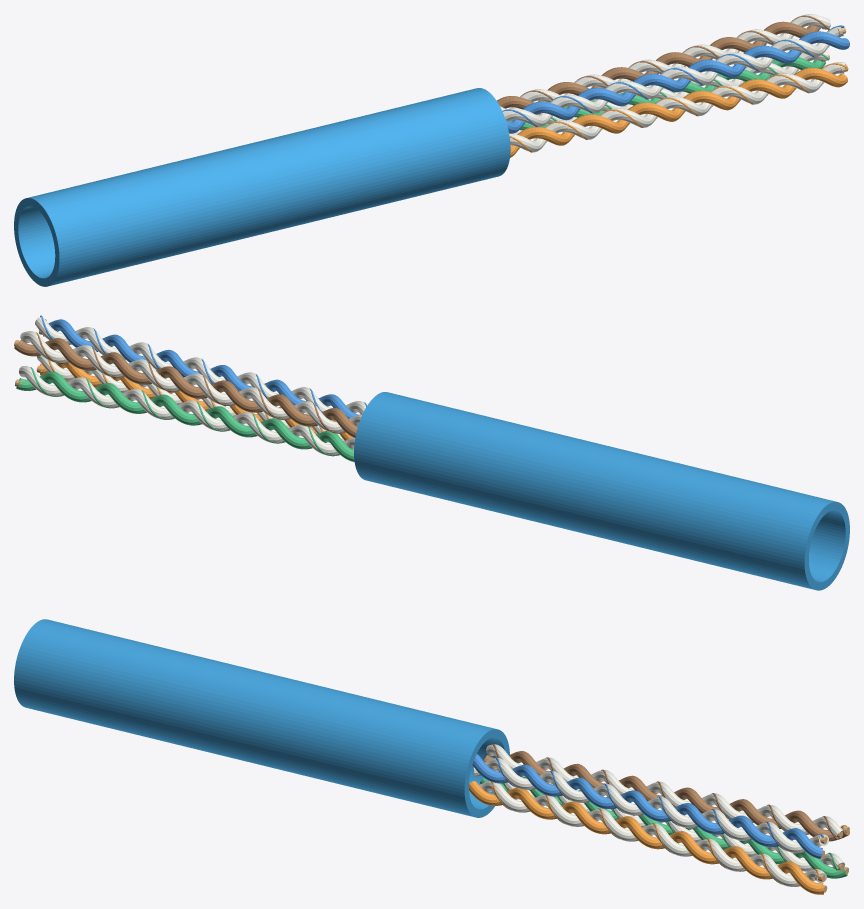
File: cat6.glb
3 views of the same model, one above another, from view 1: azimuth 30°, elevation 25°; view 2: azimuth 150°, elevation 25°; view 3: azimuth 330°, elevation 25° (orthographic).
Parts seen in each view (by area): view 1: 01_Jaket_Luar_PVC_Berongga, 05_Pasangan_1_biru_Berwarna, 05_Pasangan_2_oren_Berwarna, 05_Pasangan_1_biru_Putih_Berjalur, 05_Pasangan_2_oren_Putih_Berjalur, 05_Pasangan_4_coklat_Berwarna, 05_Pasangan_4_coklat_Putih_Berjalur, 05_Pasangan_3_hijau_Berwarna, 05_Pasangan_3_hijau_Putih_Berjalur, 06_Jalur_Warna_oren, 06_Jalur_Warna_biru; view 2: 01_Jaket_Luar_PVC_Berongga, 05_Pasangan_4_coklat_Berwarna, 05_Pasangan_3_hijau_Berwarna, 05_Pasangan_4_coklat_Putih_Berjalur, 05_Pasangan_3_hijau_Putih_Berjalur, 05_Pasangan_1_biru_Berwarna, 05_Pasangan_1_biru_Putih_Berjalur, 05_Pasangan_2_oren_Putih_Berjalur, 05_Pasangan_2_oren_Berwarna, 06_Jalur_Warna_coklat, 06_Jalur_Warna_hijau; view 3: 01_Jaket_Luar_PVC_Berongga, 05_Pasangan_2_oren_Berwarna, 05_Pasangan_1_biru_Berwarna, 05_Pasangan_1_biru_Putih_Berjalur, 05_Pasangan_2_oren_Putih_Berjalur, 05_Pasangan_4_coklat_Berwarna, 05_Pasangan_4_coklat_Putih_Berjalur, 05_Pasangan_3_hijau_Berwarna, 05_Pasangan_3_hijau_Putih_Berjalur.
Part boxes in pixels (box(x1,y1,x2,y2)): 01_Jaket_Luar_PVC_Berongga: box(14, 88, 510, 286); 05_Pasangan_1_biru_Berwarna: box(506, 31, 849, 133); 05_Pasangan_2_oren_Berwarna: box(510, 67, 847, 157); 05_Pasangan_1_biru_Putih_Berjalur: box(503, 25, 843, 126); 05_Pasangan_2_oren_Putih_Berjalur: box(509, 62, 845, 152); 05_Pasangan_4_coklat_Berwarna: box(497, 21, 820, 114); 05_Pasangan_4_coklat_Putih_Berjalur: box(500, 14, 830, 121); 05_Pasangan_3_hijau_Berwarna: box(509, 57, 825, 130); 05_Pasangan_3_hijau_Putih_Berjalur: box(509, 51, 828, 134); 06_Jalur_Warna_oren: box(509, 63, 847, 152); 06_Jalur_Warna_biru: box(502, 25, 844, 127); 01_Jaket_Luar_PVC_Berongga: box(354, 392, 849, 590); 05_Pasangan_4_coklat_Berwarna: box(14, 338, 357, 437); 05_Pasangan_3_hijau_Berwarna: box(16, 371, 354, 461); 05_Pasangan_4_coklat_Putih_Berjalur: box(20, 331, 361, 432); 05_Pasangan_3_hijau_Putih_Berjalur: box(19, 366, 355, 455); 05_Pasangan_1_biru_Berwarna: box(43, 319, 359, 418); 05_Pasangan_1_biru_Putih_Berjalur: box(35, 317, 365, 414); 05_Pasangan_2_oren_Putih_Berjalur: box(37, 355, 344, 442); 05_Pasangan_2_oren_Berwarna: box(40, 362, 353, 440); 06_Jalur_Warna_coklat: box(36, 332, 345, 433); 06_Jalur_Warna_hijau: box(30, 367, 339, 456); 01_Jaket_Luar_PVC_Berongga: box(14, 619, 509, 817); 05_Pasangan_2_oren_Berwarna: box(469, 781, 823, 894); 05_Pasangan_1_biru_Berwarna: box(472, 754, 822, 858); 05_Pasangan_1_biru_Putih_Berjalur: box(473, 758, 828, 853); 05_Pasangan_2_oren_Putih_Berjalur: box(479, 781, 826, 886); 05_Pasangan_4_coklat_Berwarna: box(483, 751, 849, 841); 05_Pasangan_4_coklat_Putih_Berjalur: box(486, 744, 843, 836); 05_Pasangan_3_hijau_Berwarna: box(480, 776, 847, 878); 05_Pasangan_3_hijau_Putih_Berjalur: box(495, 770, 844, 871).
Bounding box in the file's own units: 18.27 × 1.8 × 1.8.
